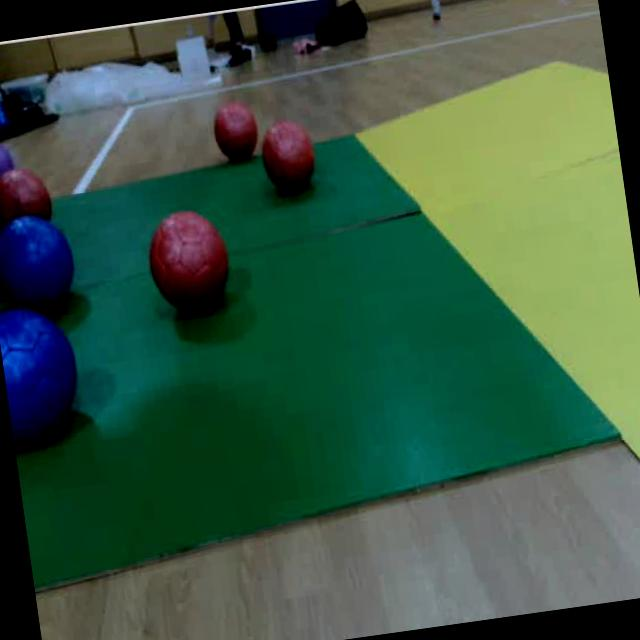blue_ball: (0, 299, 90, 452), (0, 213, 83, 319)
purple_ball: (0, 130, 12, 175)
red_ball: (142, 204, 236, 320), (257, 120, 324, 202), (0, 164, 55, 223), (214, 102, 262, 164)
